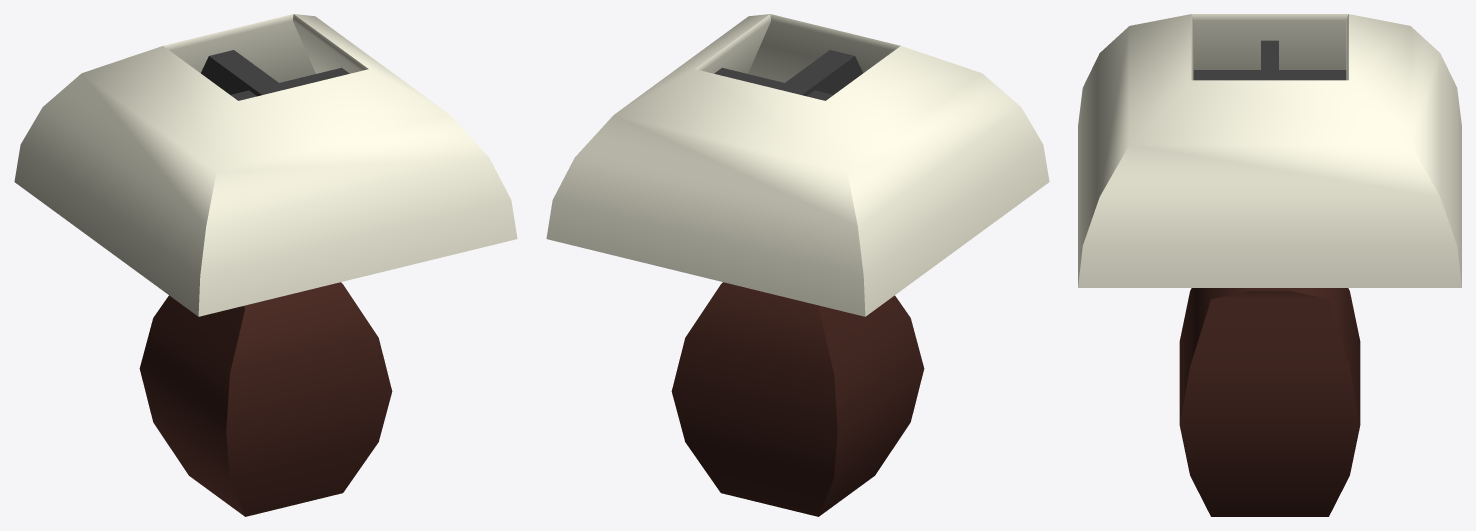
File: lamp_012.glb
The picture shows the model from 3 angles, left to right: view 1: azimuth 30°, elevation 25°; view 2: azimuth 150°, elevation 25°; view 3: azimuth 270°, elevation 25°; orthographic projection. The views are drawn at different scales.
Visible parts, largest first — view 1: lamp_012; view 2: lamp_012; view 3: lamp_012.
Boxes of the visible parts, box(x1,y1,x2,y2) form: lamp_012: box(14, 14, 517, 516); lamp_012: box(546, 14, 1049, 516); lamp_012: box(1078, 14, 1461, 516).
Size of the model in its own units: 0.4493 by 0.5746 by 0.4493.
1 material, 1 textured.
